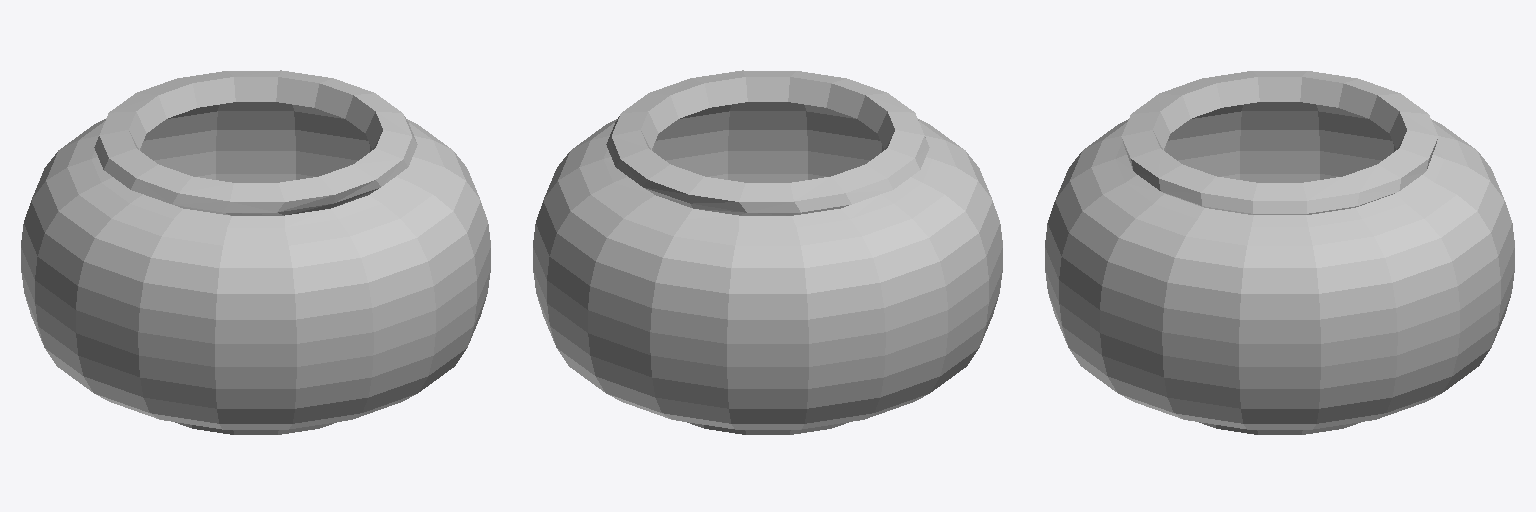
File: FISHBOWLL.obj
3 renders of one model, left to right at view 1: azimuth 30°, elevation 25°; view 2: azimuth 150°, elevation 25°; view 3: azimuth 270°, elevation 25°, orthographic.
Visible parts, largest first — view 1: revolvedSurface1; view 2: revolvedSurface1; view 3: revolvedSurface1.
Boxes of the visible parts, <box> form: revolvedSurface1: <box>21,70,490,434</box>; revolvedSurface1: <box>533,70,1002,434</box>; revolvedSurface1: <box>1045,71,1514,434</box>.
Size of the model in its own units: 40.77 by 24.51 by 41.41.